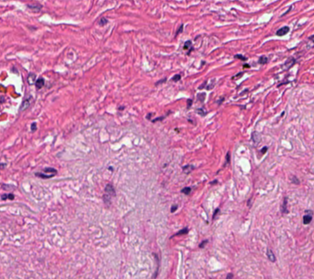nucleus: (35, 168, 56, 178), (103, 184, 114, 202), (19, 96, 30, 111), (172, 228, 187, 236), (183, 40, 192, 53), (266, 248, 275, 261), (27, 73, 36, 84), (35, 77, 44, 88), (182, 165, 194, 173), (1, 193, 13, 200), (252, 132, 259, 142), (259, 56, 267, 64), (234, 54, 246, 59), (232, 72, 242, 78), (213, 208, 219, 218), (172, 74, 180, 81), (197, 93, 204, 101), (199, 240, 207, 247), (152, 116, 163, 121), (181, 187, 190, 193), (260, 146, 267, 153), (197, 108, 205, 114), (156, 79, 165, 84), (170, 205, 177, 211), (31, 123, 36, 131), (226, 152, 229, 163), (187, 99, 191, 107), (226, 273, 232, 278), (210, 180, 217, 184), (146, 113, 151, 118)
